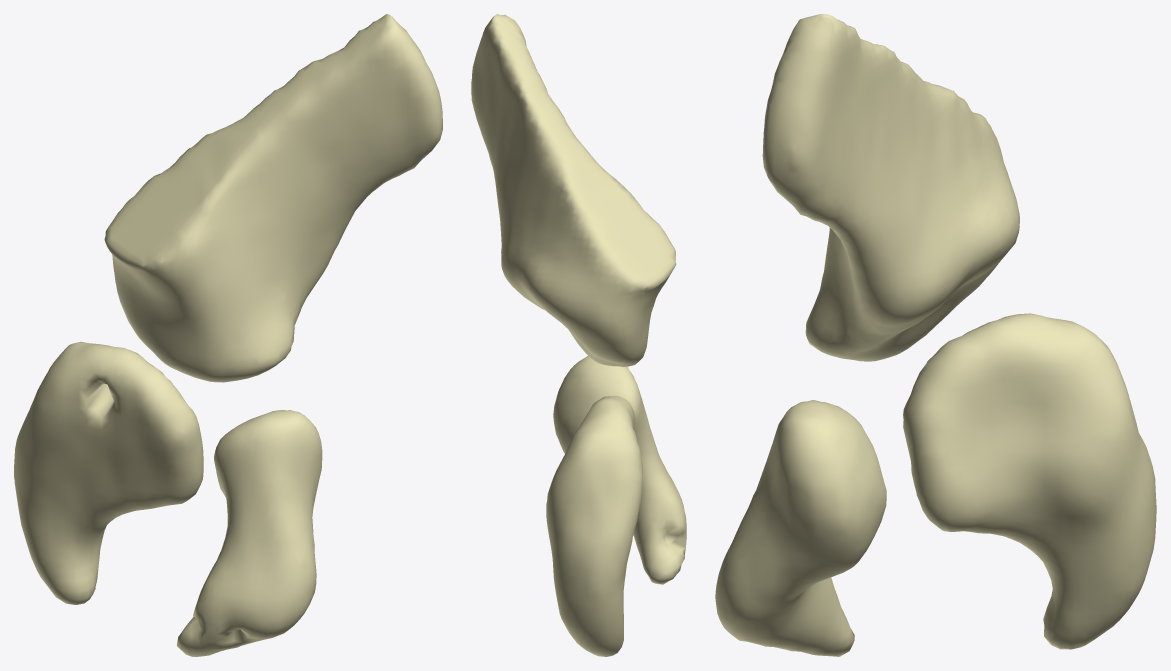
File: Pat2_Mav_LeftIliumLower.fbx
The picture shows the model from 3 angles, left to right: view 1: azimuth 30°, elevation 25°; view 2: azimuth 150°, elevation 25°; view 3: azimuth 270°, elevation 25°; orthographic projection. The views are drawn at different scales.
Visible parts, largest first — view 1: sm_LeftIlium_LowerPart; view 2: sm_LeftIlium_LowerPart; view 3: sm_LeftIlium_LowerPart.
Part boxes in pixels (x1,y1,x2,y2): sm_LeftIlium_LowerPart: (14,14,442,656); sm_LeftIlium_LowerPart: (471,14,686,656); sm_LeftIlium_LowerPart: (715,14,1156,656).
Size of the model in its own units: 32.22 by 62.23 by 32.4.
